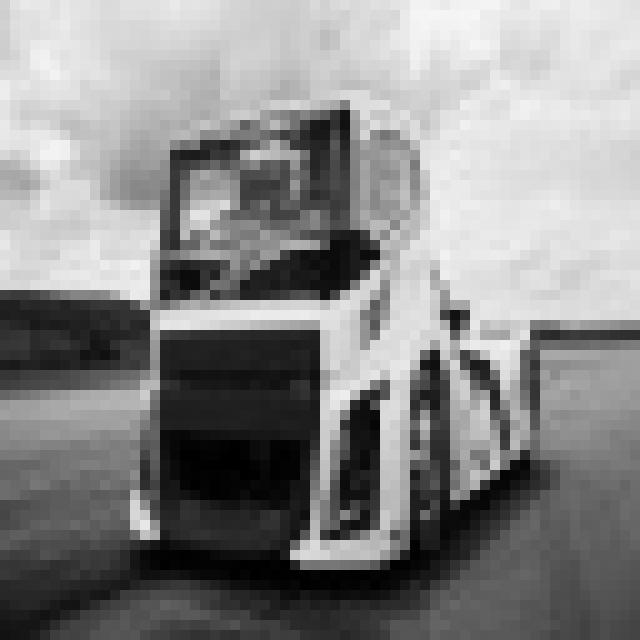trucks: (126, 81, 548, 584)
